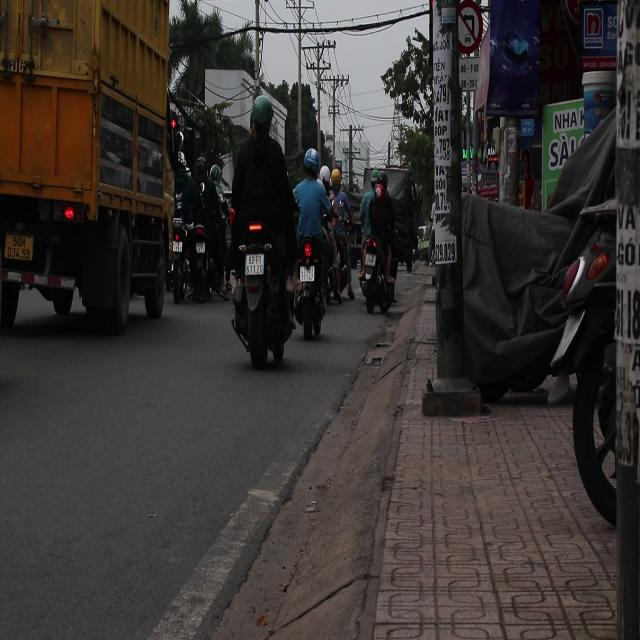motorbike: (231, 224, 298, 369), (172, 172, 228, 302), (296, 246, 338, 340), (359, 240, 396, 311)
truck: (0, 2, 172, 336)
